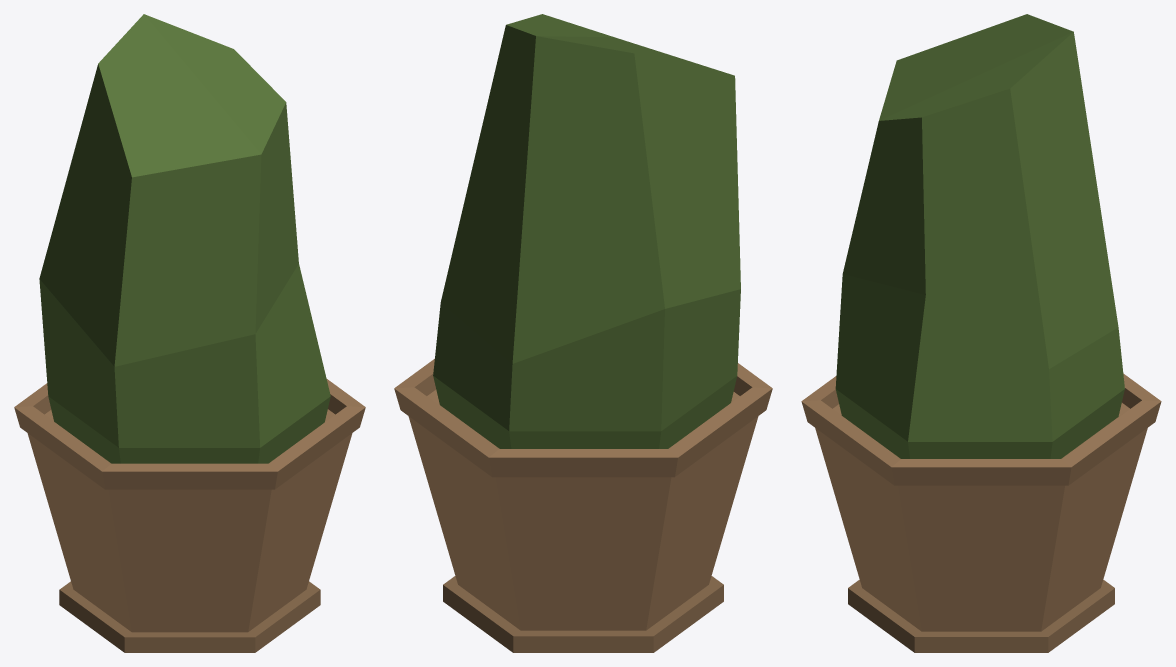
Rendered from pottedFlower.fbx.
The picture shows the model from 3 angles, left to right: view 1: azimuth 30°, elevation 25°; view 2: azimuth 150°, elevation 25°; view 3: azimuth 270°, elevation 25°; orthographic projection. The views are drawn at different scales.
Visible parts, largest first — view 1: Sphere.004; view 2: Sphere.004; view 3: Sphere.004.
Boxes of the visible parts, x1,y1,x2,y2 form: Sphere.004: (14, 14, 365, 652); Sphere.004: (394, 14, 772, 652); Sphere.004: (801, 14, 1161, 652).
Size of the model in its own units: 56.71 by 115 by 65.48.
